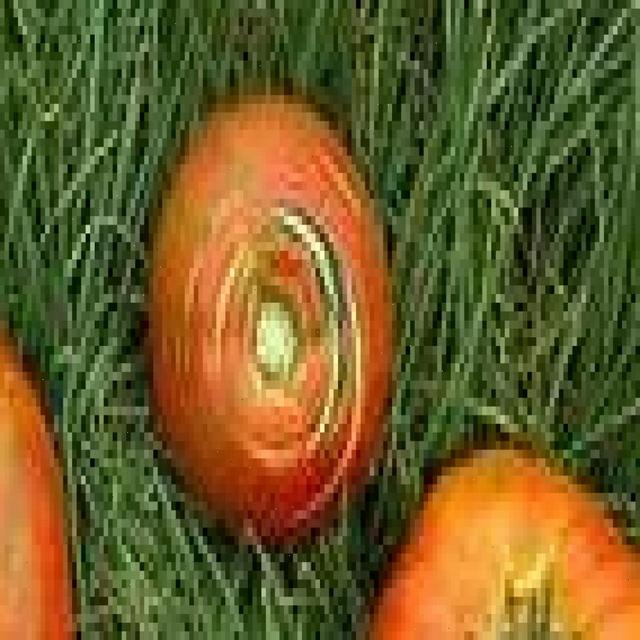Cracking Fruit: (68, 86, 362, 383)
